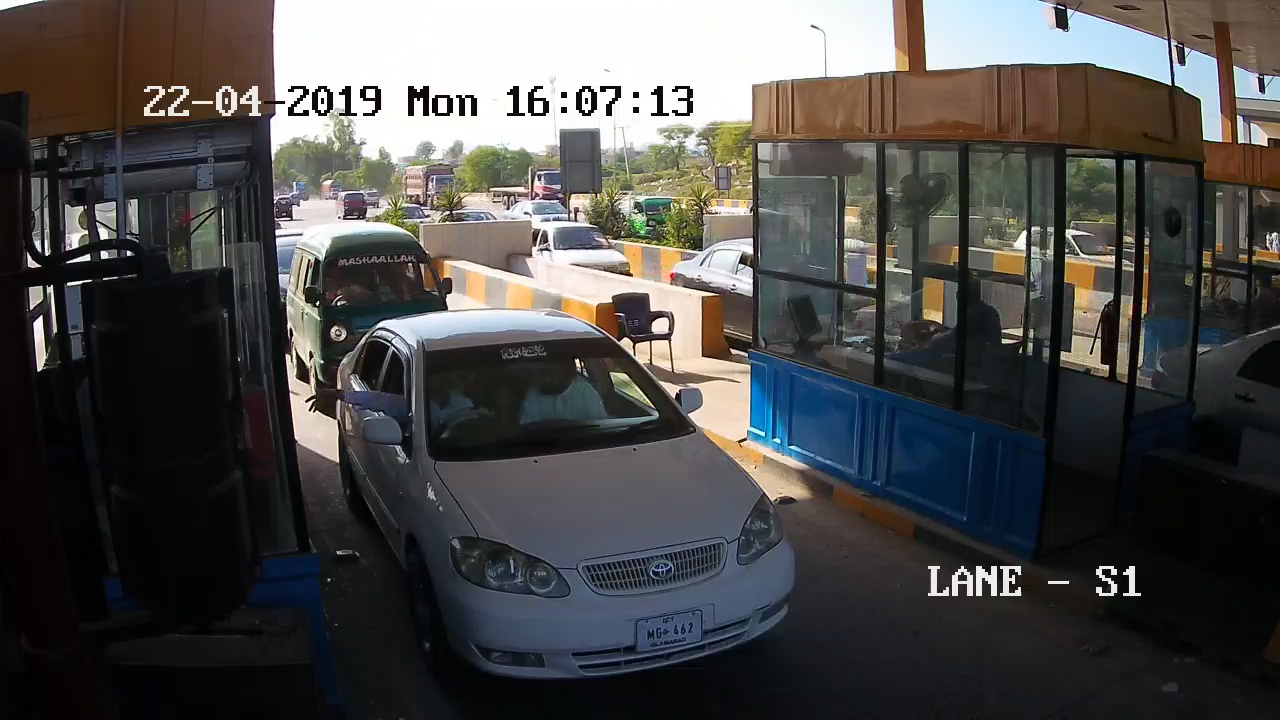Number Plate (Car): (633, 615, 699, 648)
